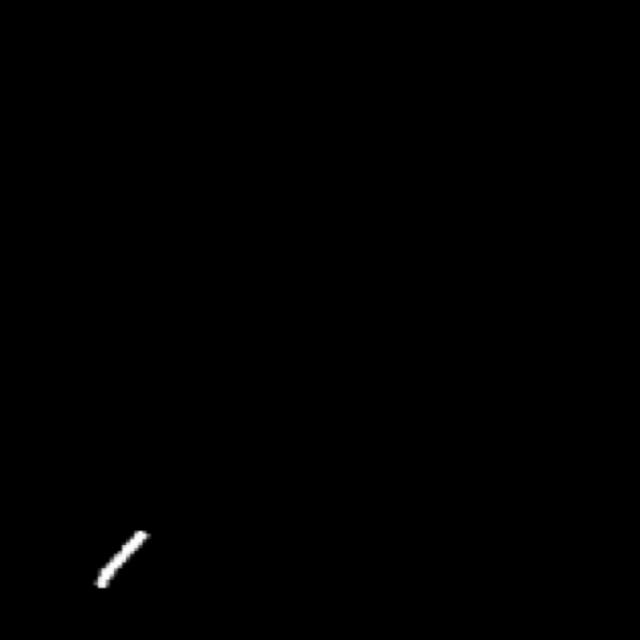one -1-: (75, 518, 166, 600)
